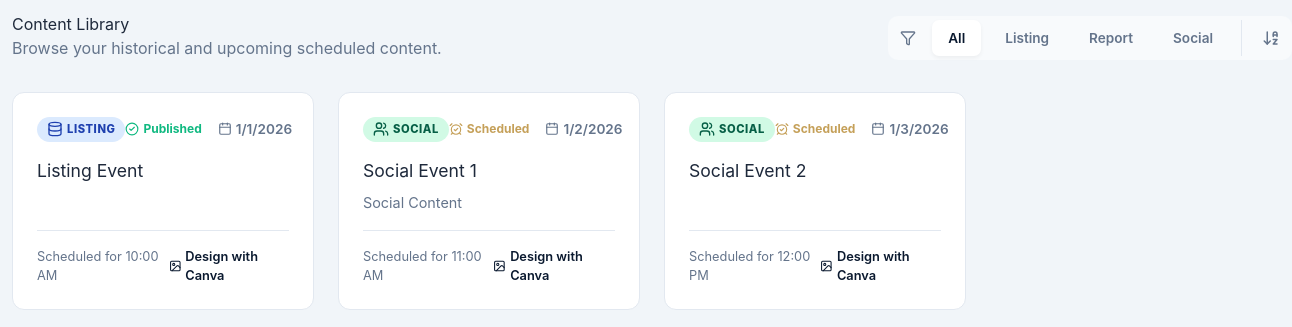
it: ContentLibrary Component › filters events when a category is clicked
Click the social filter
Click the button "social": {"x": 1193, "y": 38} left=1157, top=20, right=1229, bottom=56
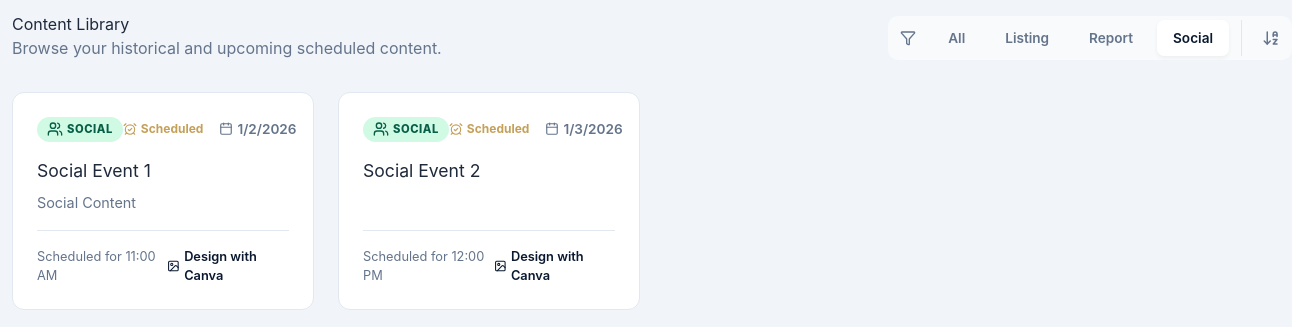
Expected: the heading "Social Event 1" is shown, left=37, top=160, right=151, bottom=181
Result: the heading "Listing Event" is gone
